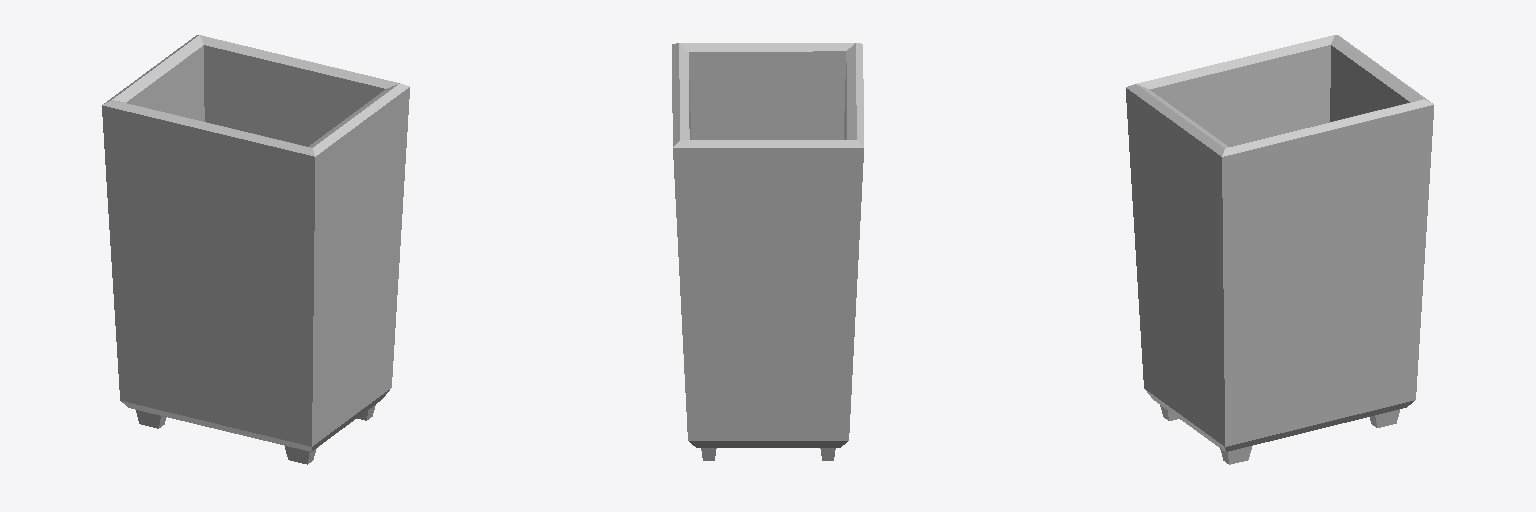
Rendered from SM_Prop_Bin_03_OBJ.obj.
3 renders of one model, left to right at view 1: azimuth 30°, elevation 25°; view 2: azimuth 150°, elevation 25°; view 3: azimuth 270°, elevation 25°, orthographic.
Visible parts, largest first — view 1: SM_Prop_Bin_03; view 2: SM_Prop_Bin_03; view 3: SM_Prop_Bin_03.
Part boxes in pixels (bbox=[...]): SM_Prop_Bin_03: bbox=[102, 35, 409, 464]; SM_Prop_Bin_03: bbox=[672, 43, 863, 460]; SM_Prop_Bin_03: bbox=[1126, 35, 1433, 464].
Bounding box in the file's own units: 17.73 × 22.24 × 18.93.